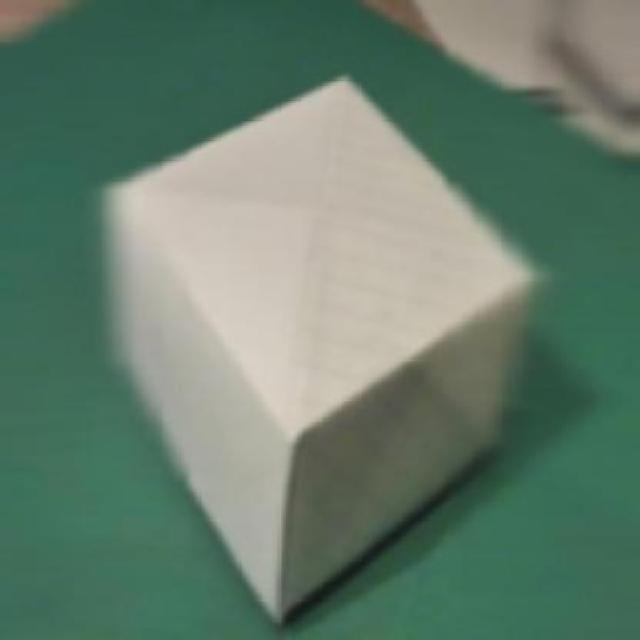box: (106, 83, 540, 625)
